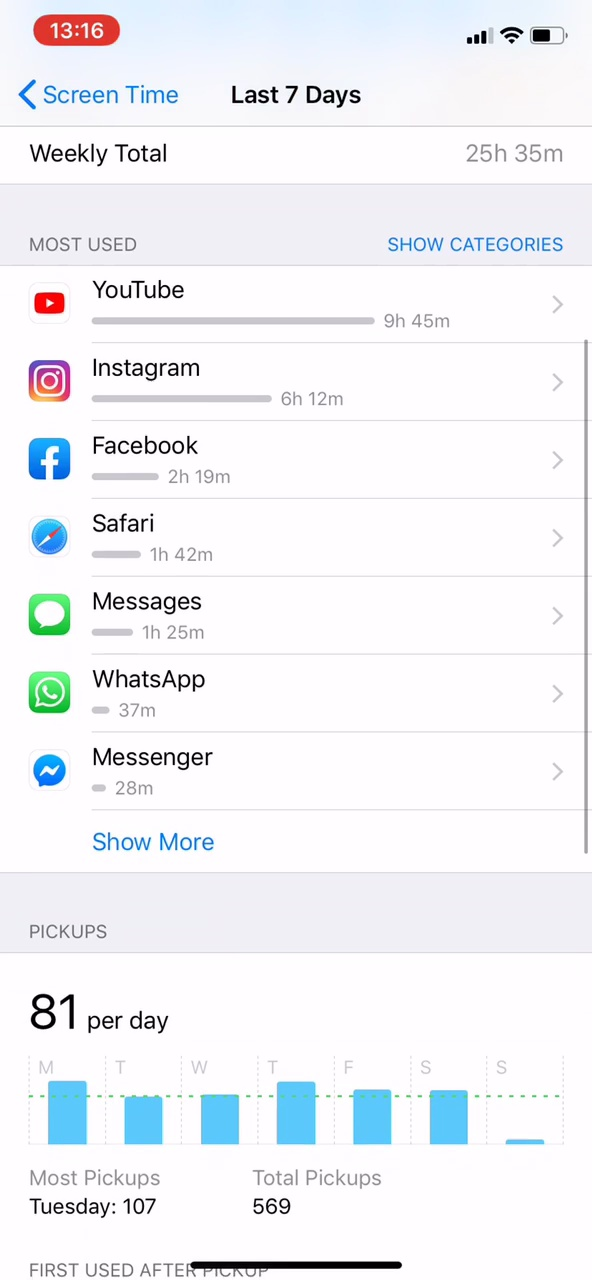pick_over: (17, 1166, 442, 1235)
week: (217, 73, 380, 114)
